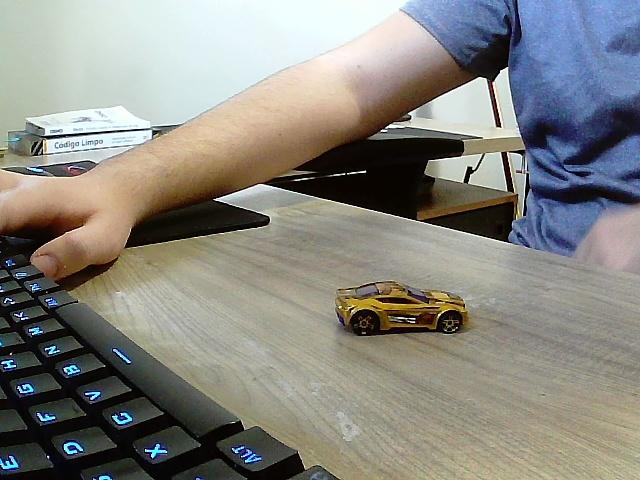Carro: (336, 282, 468, 337)
